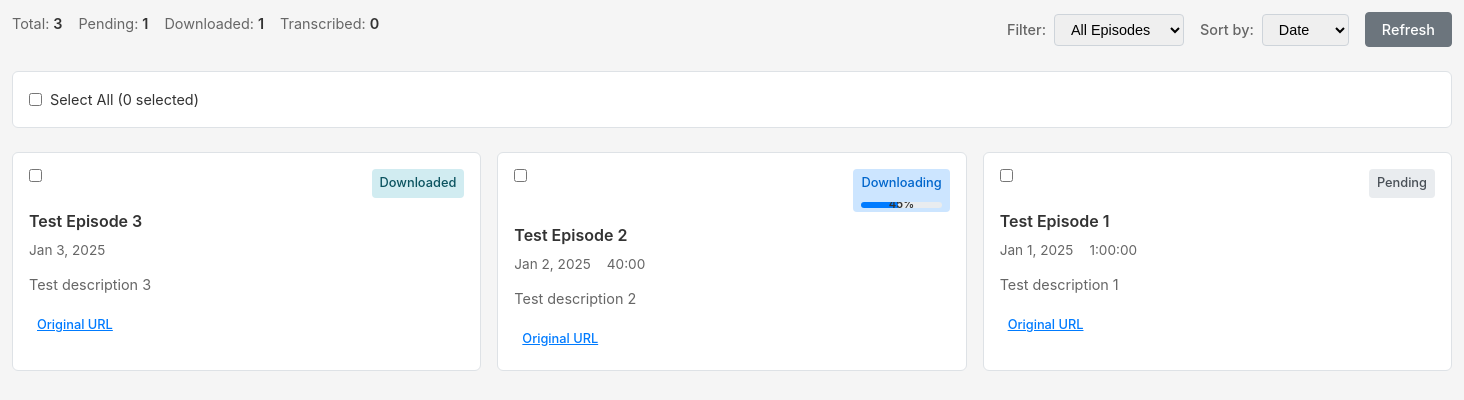
Test: EpisodeList › handles select all functionality
Click the checkbox labelled "Select All (0 selected)": [36, 100] box [29, 93, 42, 106]
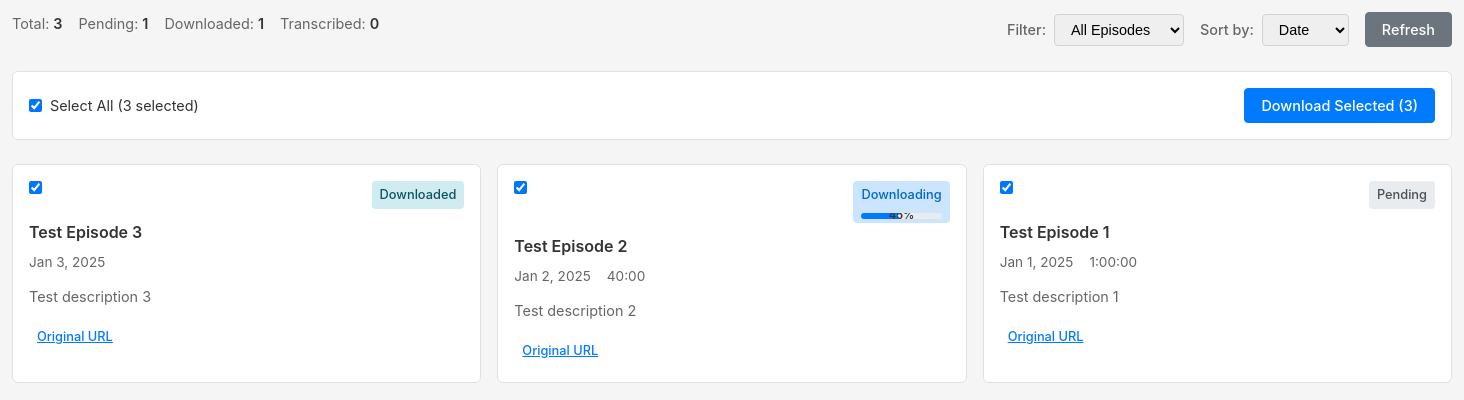
expect the text "Select All (3 selected)" is shown: met, box [29, 94, 199, 117]
